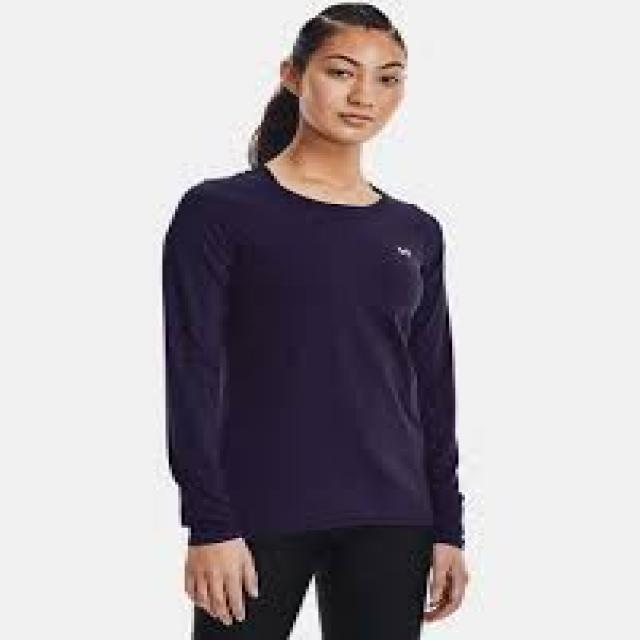plain: (133, 155, 487, 562)
